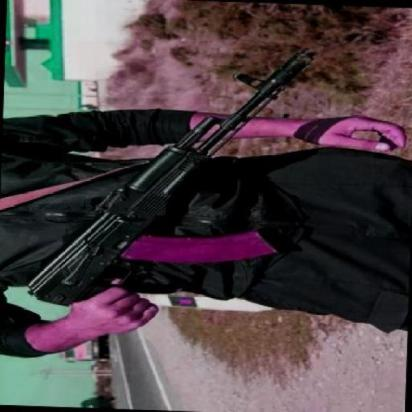Gun: (23, 39, 318, 324)
